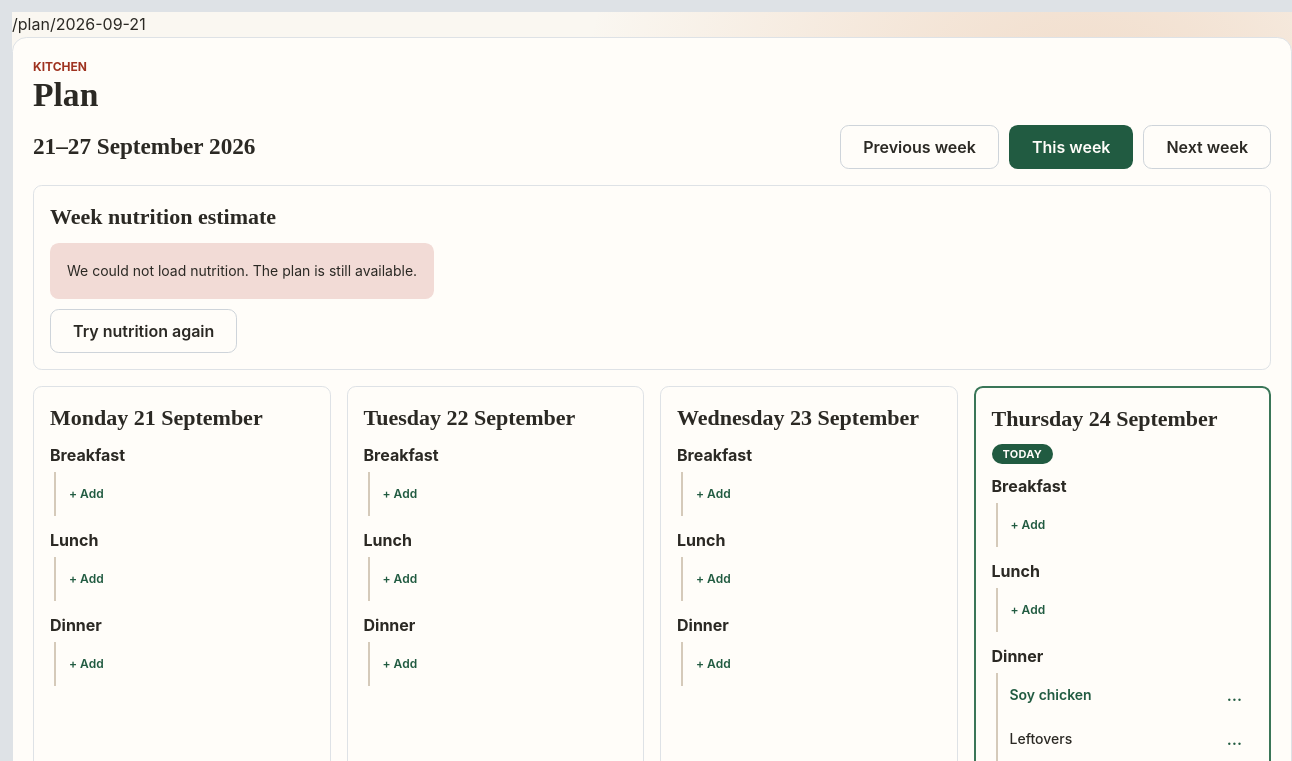
meal-plan nutrition display › keeps the plan usable after nutrition fails and can retry
Expected: the text "We could not load nutrition. The plan is still available." is shown, [67,260,417,282]
Click the button "Try nutrition again". click: (144, 330)
box: [50,308,237,352]
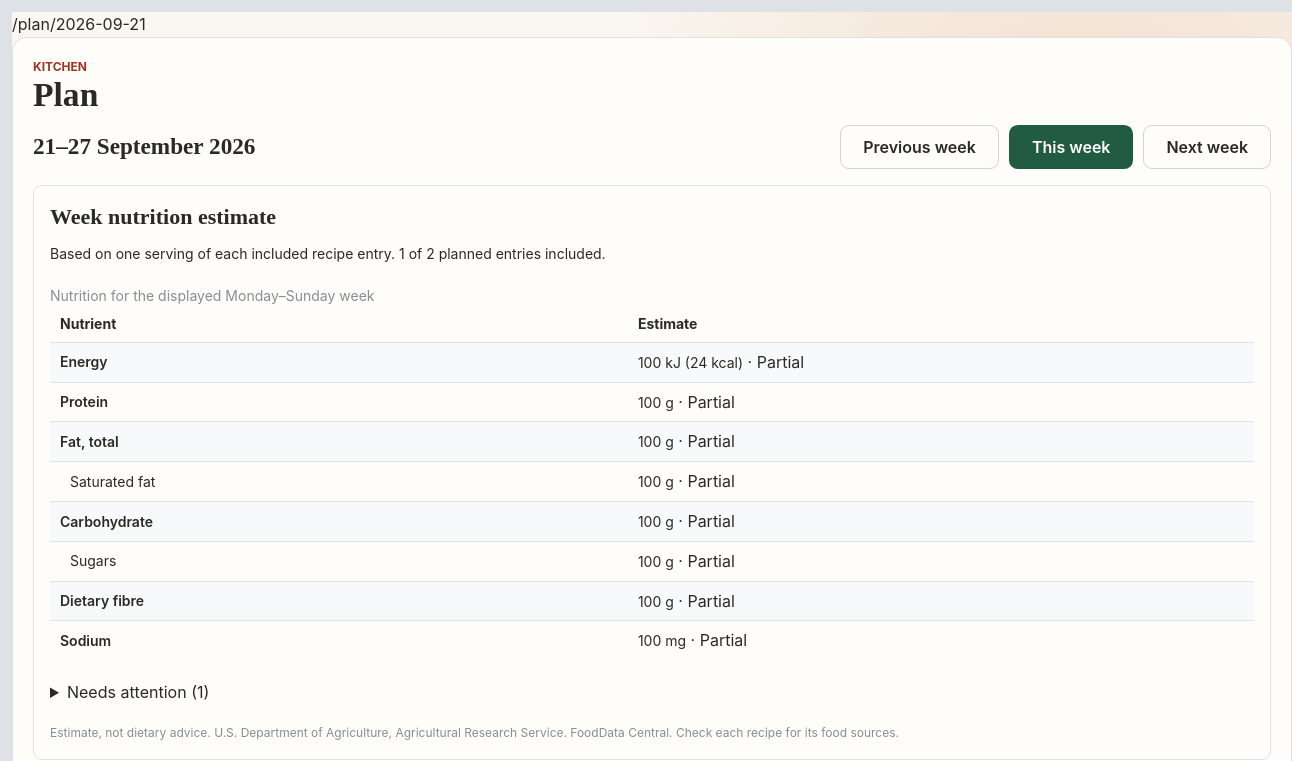
Expected: the text "1 of 2 planned entries included" is shown, [50,245,606,262]
